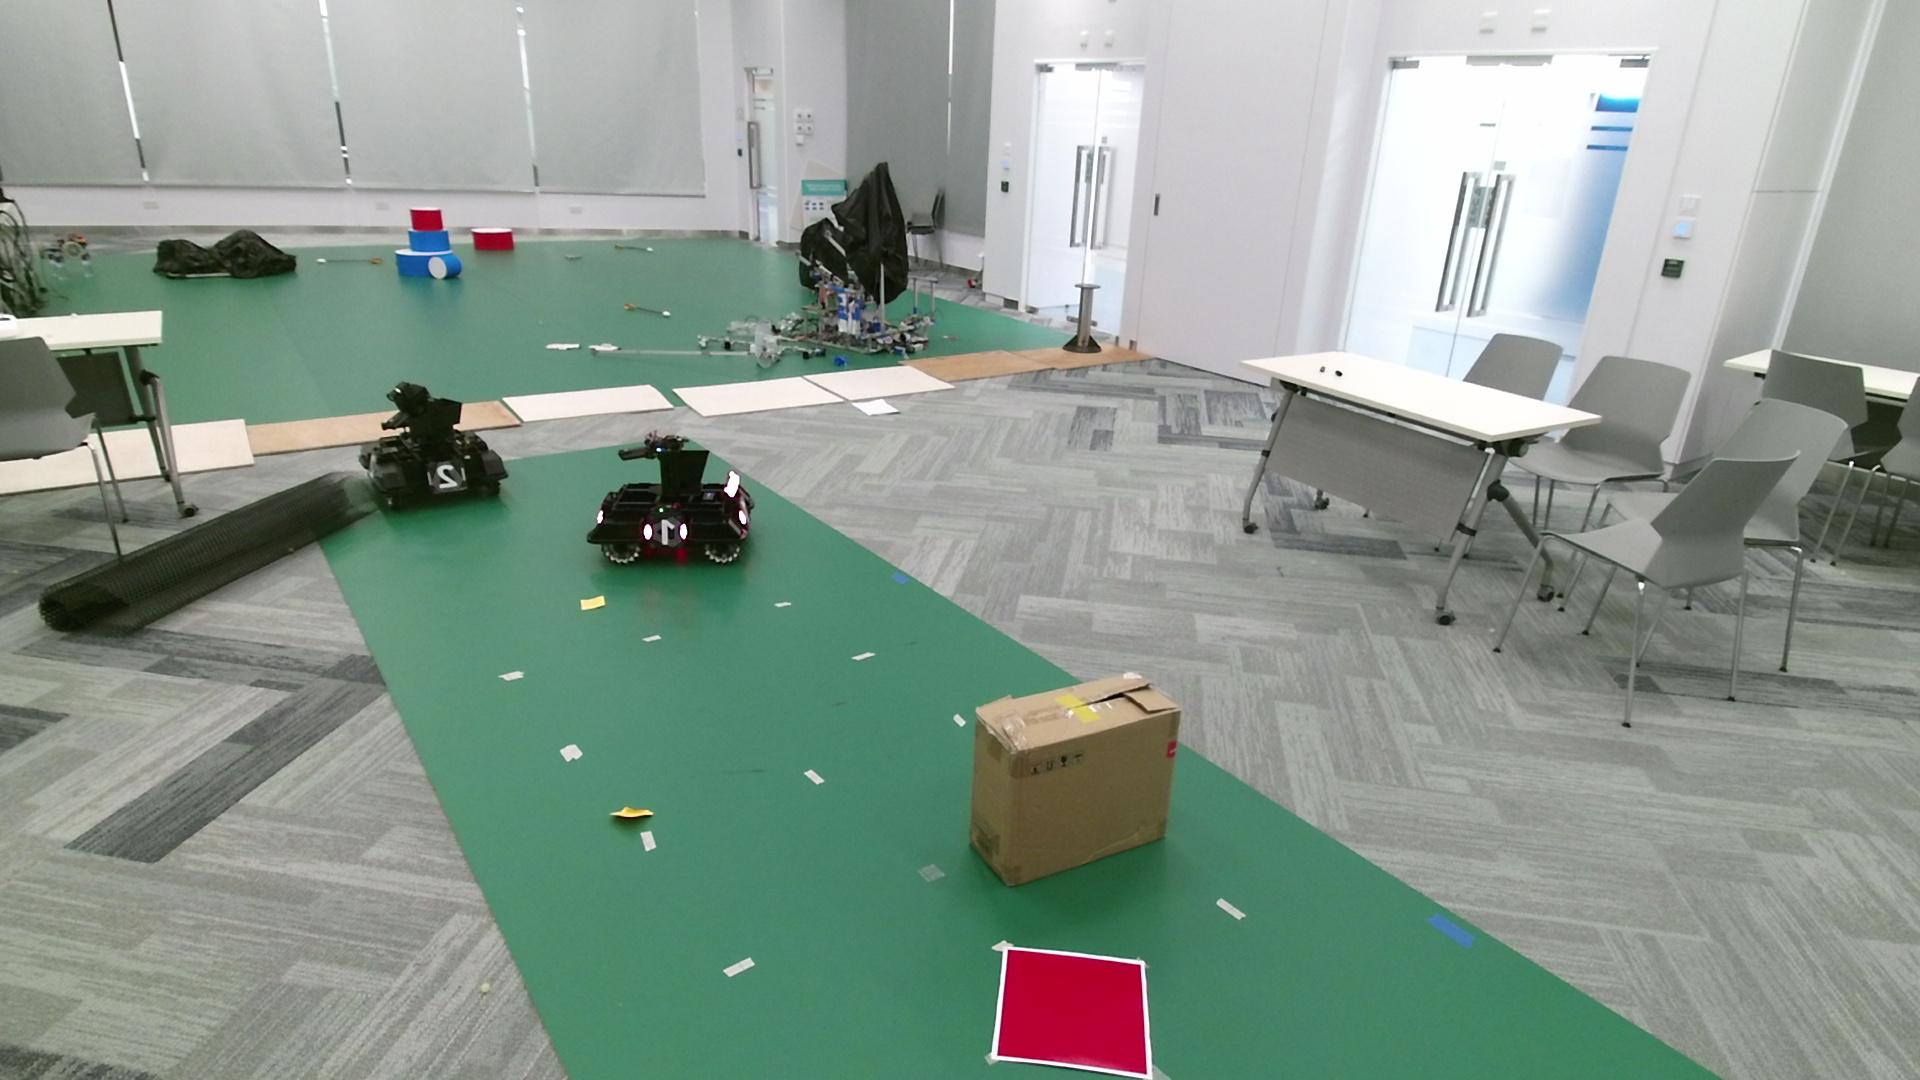robot: (585, 429, 754, 564), (357, 380, 509, 510)
